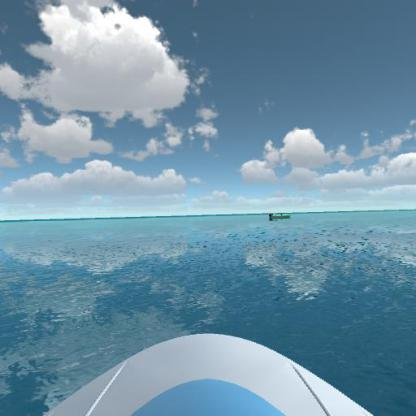usv0: (266, 210, 293, 225)
